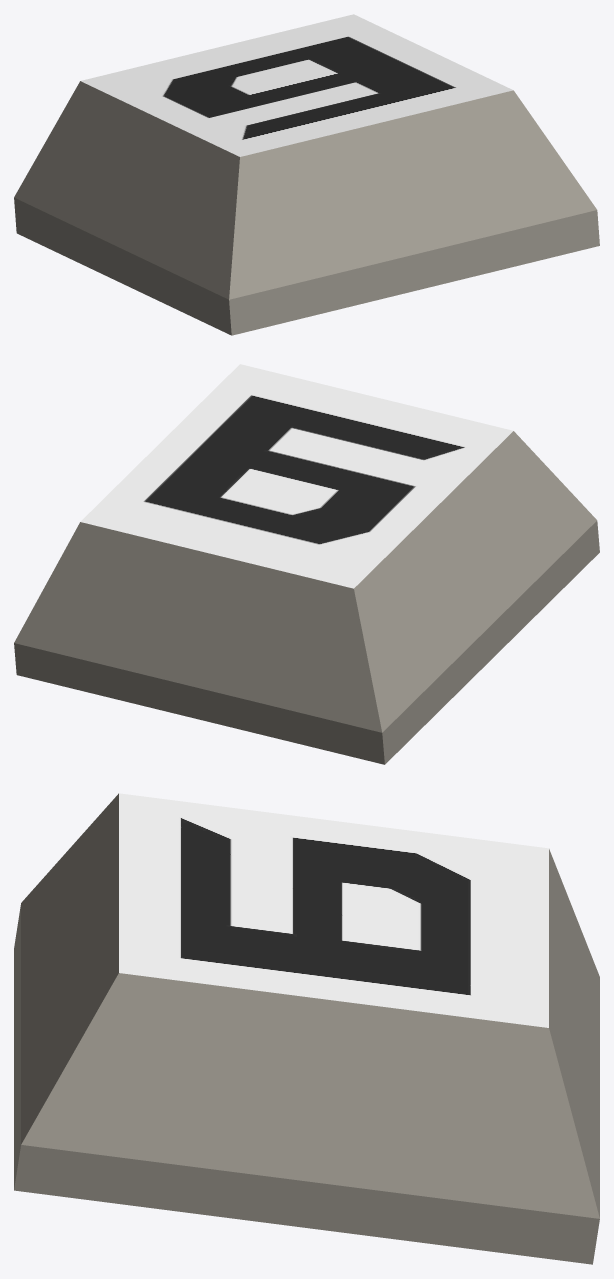
Rendered from key6.glb.
3 views of the same model, one above another, from view 1: azimuth 30°, elevation 25°; view 2: azimuth 150°, elevation 25°; view 3: azimuth 270°, elevation 25° (orthographic). The views are drawn at different scales.
Visible parts, largest first — view 1: Cube.006; view 2: Cube.006; view 3: Cube.006.
Part boxes in pixels (x1,y1,x2,y2): Cube.006: [14, 14, 599, 335]; Cube.006: [14, 364, 599, 764]; Cube.006: [14, 793, 599, 1264].
Bounding box in the file's own units: 0.1926 × 0.0968 × 0.1972.
Materials: 2 (1 with a texture image).
